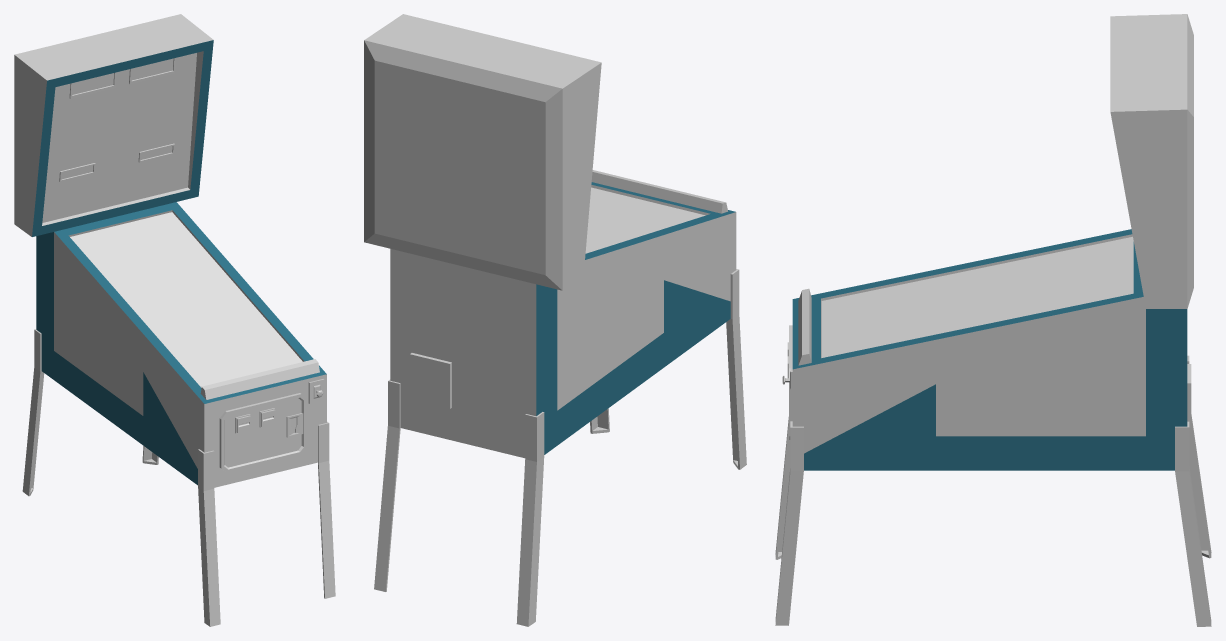
The model's file is 02_arcade_machine_V5.glb.
The picture shows the model from 3 angles, left to right: view 1: azimuth 30°, elevation 25°; view 2: azimuth 150°, elevation 25°; view 3: azimuth 270°, elevation 25°; orthographic projection. The views are drawn at different scales.
Visible parts, largest first — view 1: PinballMachineV1; view 2: PinballMachineV1; view 3: PinballMachineV1.
Boxes of the visible parts, x1=… form: PinballMachineV1: x1=14, y1=14, x2=335, y2=626; PinballMachineV1: x1=364, y1=14, x2=746, y2=626; PinballMachineV1: x1=775, y1=14, x2=1211, y2=626.
Size of the model in its own units: 0.8808 by 2.27 by 1.7.
